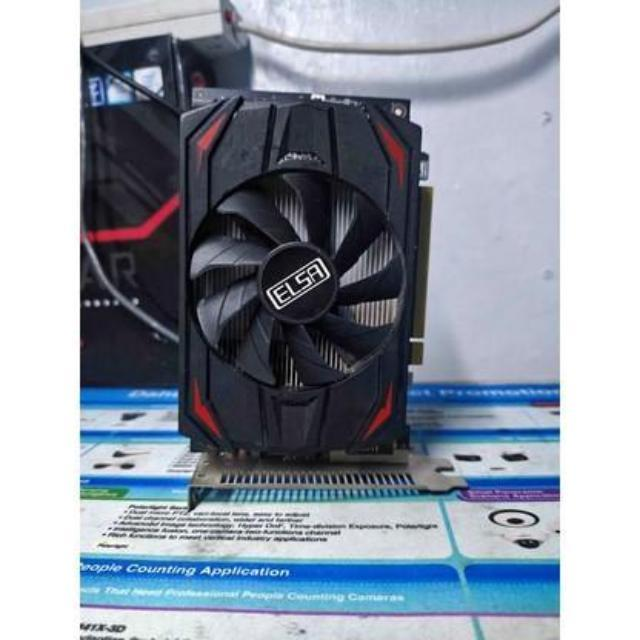GPU: (170, 79, 441, 481)
